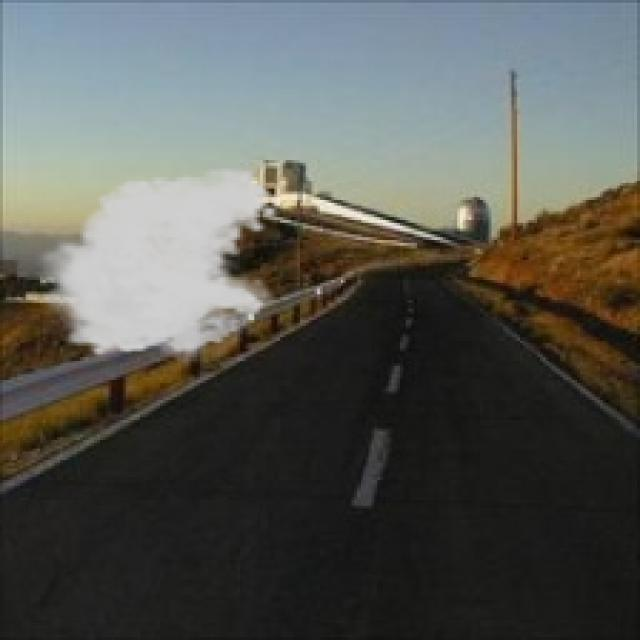Smoke: (31, 165, 280, 368)
